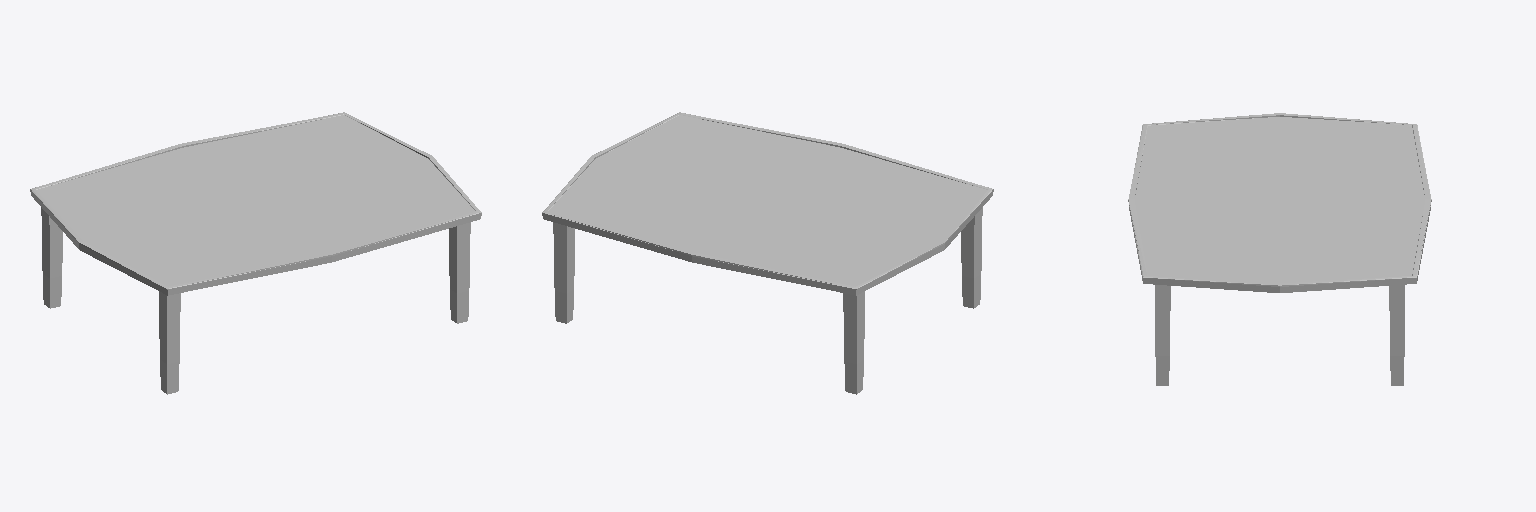
Rendered from table.obj.
3 views of the same model, side by side, from view 1: azimuth 30°, elevation 25°; view 2: azimuth 150°, elevation 25°; view 3: azimuth 270°, elevation 25° (orthographic).
Parts seen in each view (by area): view 1: Cube; view 2: Cube; view 3: Cube.
Boxes of the visible parts, x1=… form: Cube: x1=30, y1=112, x2=481, y2=394; Cube: x1=542, y1=112, x2=993, y2=394; Cube: x1=1128, y1=113, x2=1431, y2=385.
Bounding box in the file's own units: 2.39 × 0.7322 × 1.77.